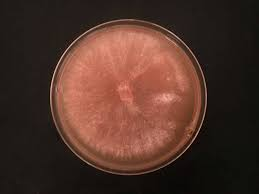Fusarium: (67, 46, 188, 145)
